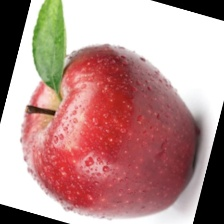apple: (27, 29, 174, 187)
